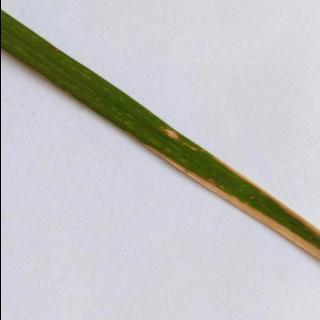Blast: (152, 115, 185, 148)
